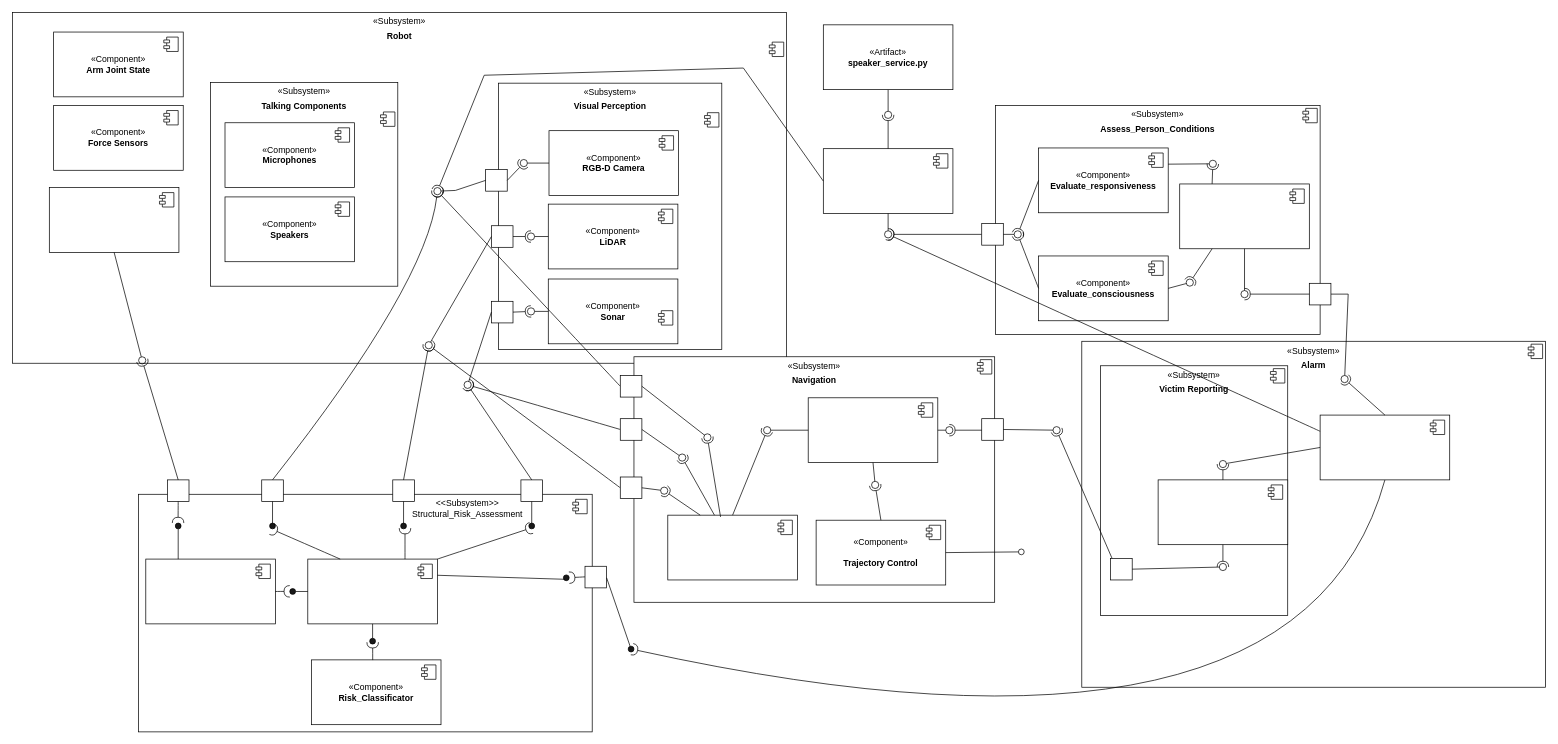
The diagram is 1558 pixels wide and 744 high, and some of its shapes have lost their labels. The shapes that lost their labels are listed below. From the top down, each one's centre as x and y in pixels, then its label:
the point at 888,180: «Component» Person_Identification
the point at 114,219: «Component» Motor_Controller
the point at 1244,216: «Component» Evaluate_priority
the point at 872,430: «Component» Odometry
the point at 1384,447: «Component» Message_Sender
the point at 1222,512: «Component» Compute_Object_Position
the point at 732,547: «Component» SLAM
the point at 210,591: «Component» Assessment_Movement
the point at 372,591: «Component» Crack_Detection
